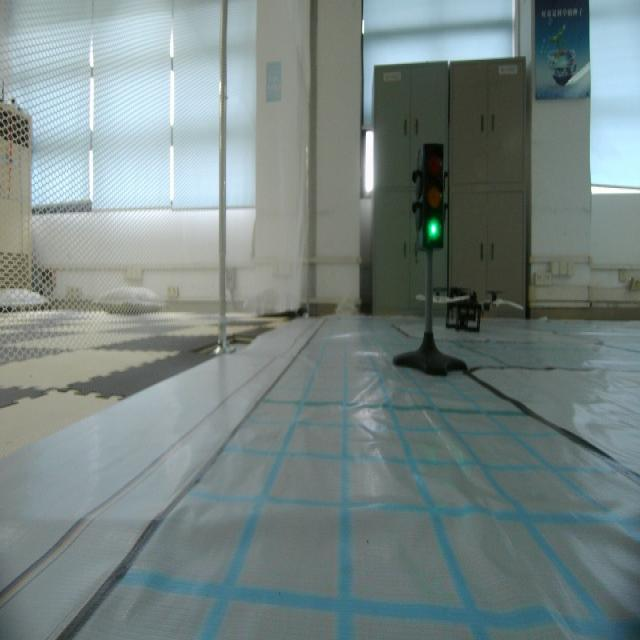green: (412, 138, 453, 258)
